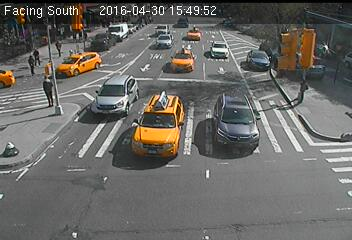neg: (273, 32, 302, 71), (79, 166, 105, 200), (316, 39, 339, 69), (98, 83, 121, 112), (83, 26, 98, 46), (158, 33, 171, 50), (213, 42, 226, 59), (112, 24, 124, 40)
pos: (33, 71, 61, 109), (22, 53, 40, 77), (25, 44, 43, 68), (52, 39, 66, 58)
